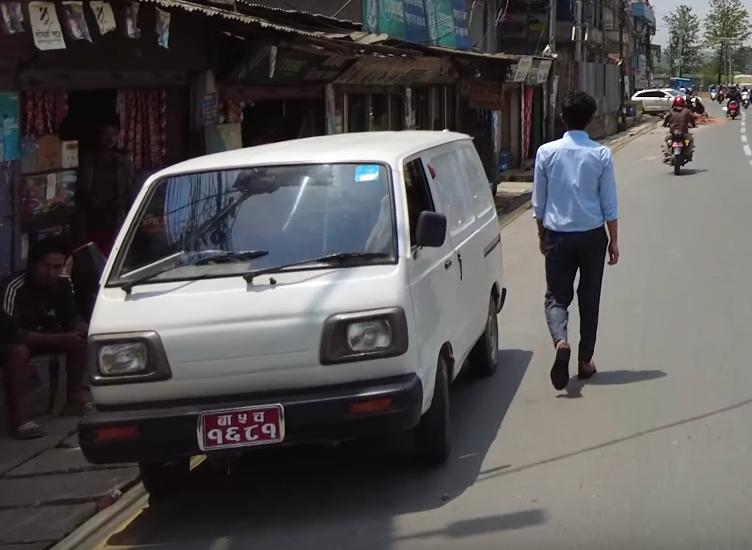bike: (663, 114, 697, 176)
car: (630, 85, 701, 113)
van: (66, 128, 518, 493)
